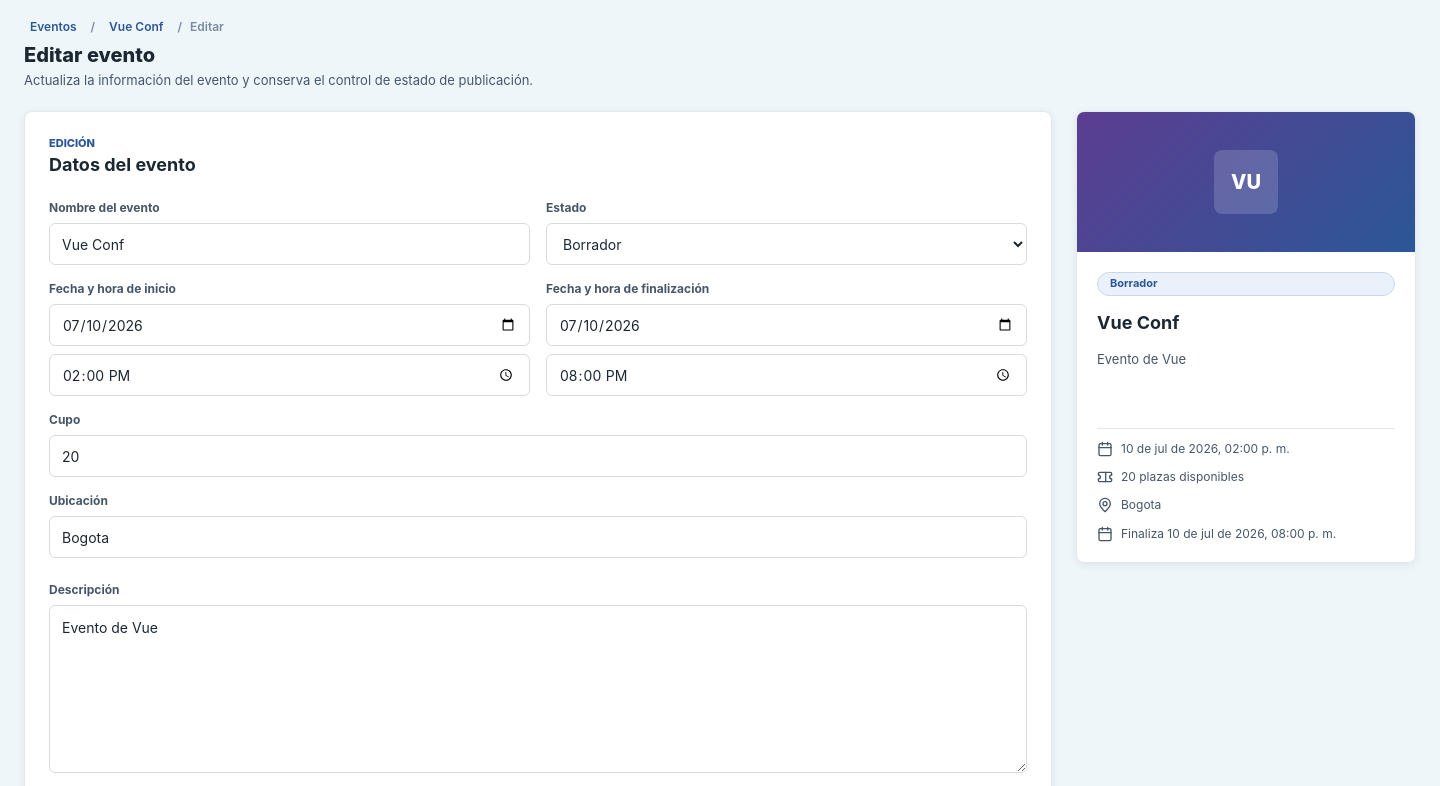
Test: event form views › shows API errors when edit saving fails
Replace the text in the field with id "event-name" with "Vue Conf Fallida" at (290, 244), box [49,223,530,265]
(page scrolled)
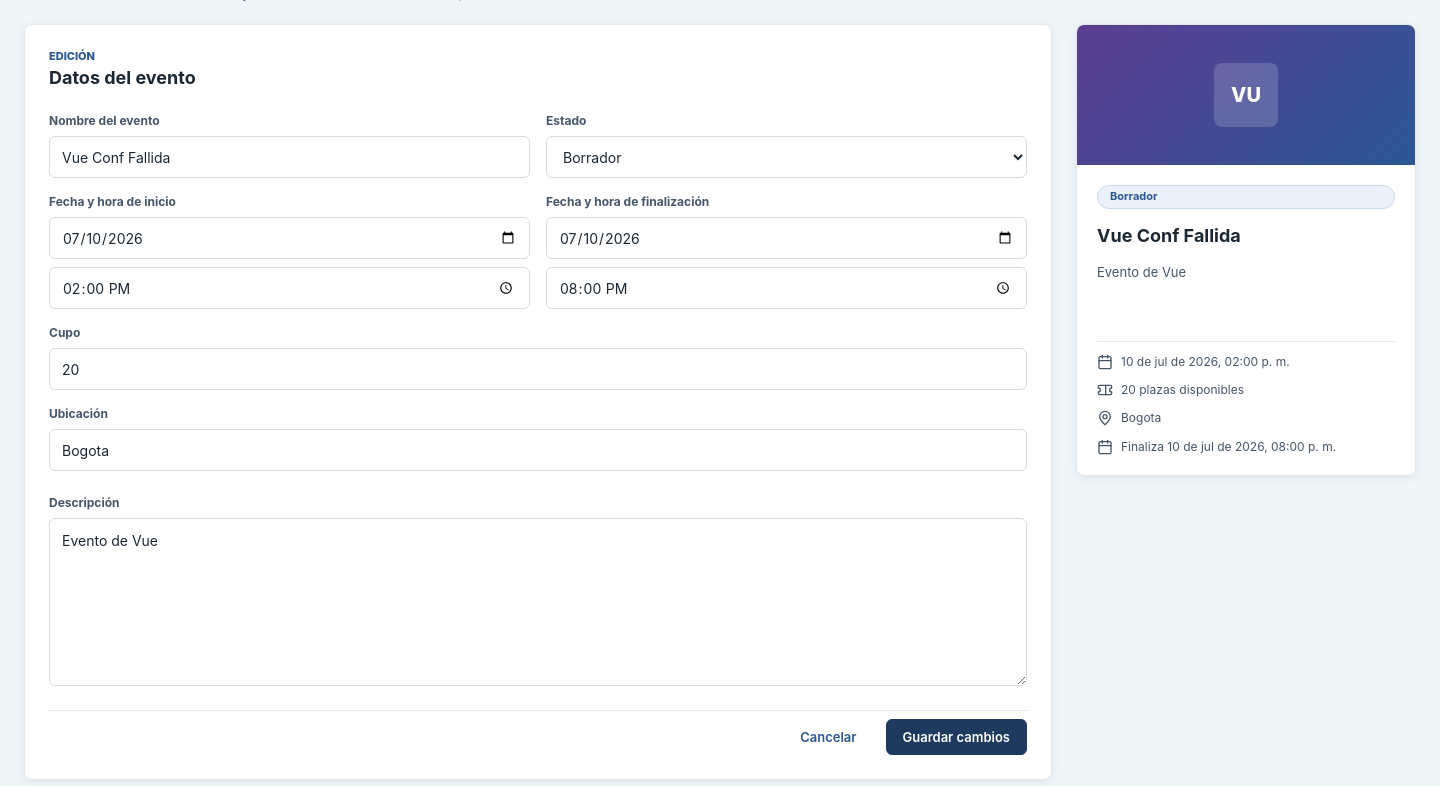
Submit the form
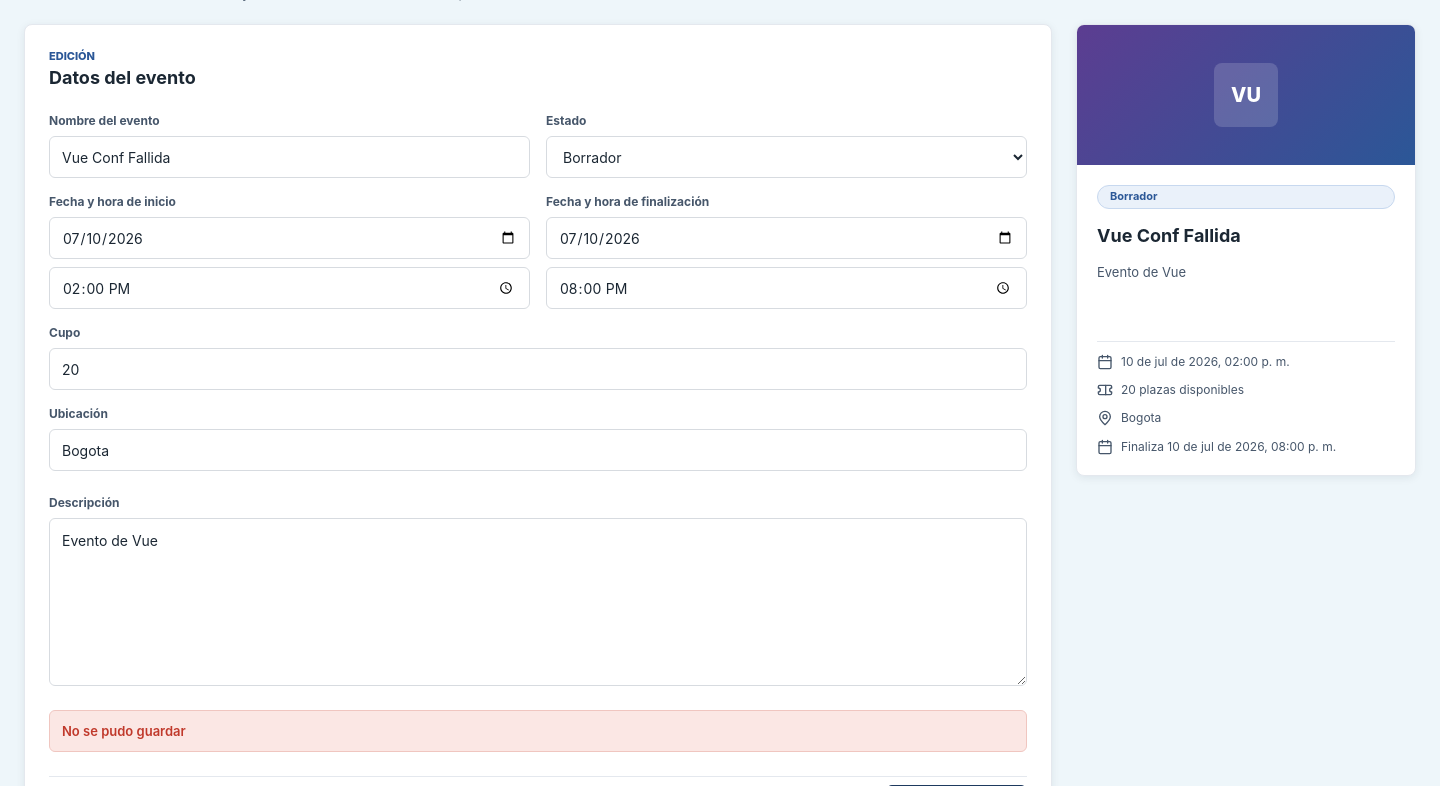
expect the text "No se pudo guardar" is shown: met, box [49,710,1027,752]
